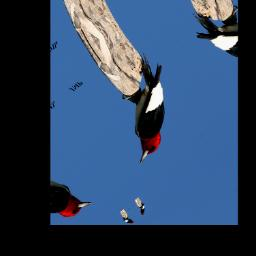Woodpecker: (93, 46, 197, 166)
